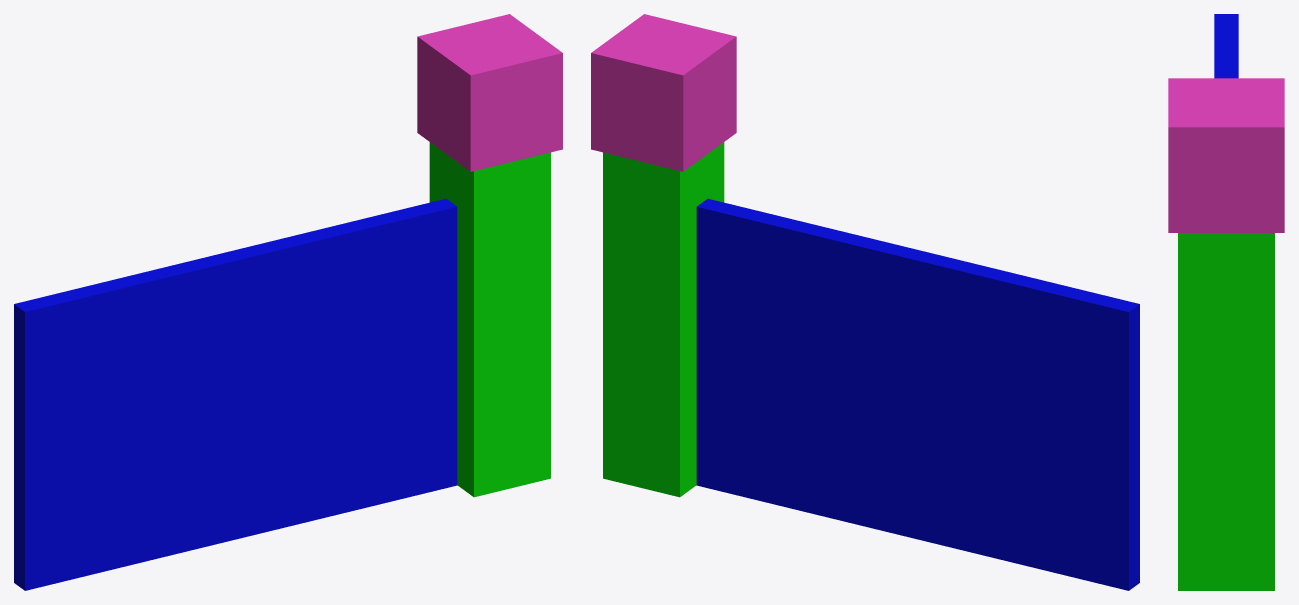
The model's file is FencePiece.fbx.
3 renders of one model, left to right at view 1: azimuth 30°, elevation 25°; view 2: azimuth 150°, elevation 25°; view 3: azimuth 270°, elevation 25°, orthographic. The views are drawn at different scales.
Visible parts, largest first — view 1: Cube.001; view 2: Cube.001; view 3: Cube.001.
Boxes of the visible parts, x1,y1,x2,y2 form: Cube.001: (14, 14, 562, 590); Cube.001: (591, 14, 1139, 590); Cube.001: (1168, 14, 1284, 590).
Bounding box in the file's own units: 1345 × 1063 × 240.
